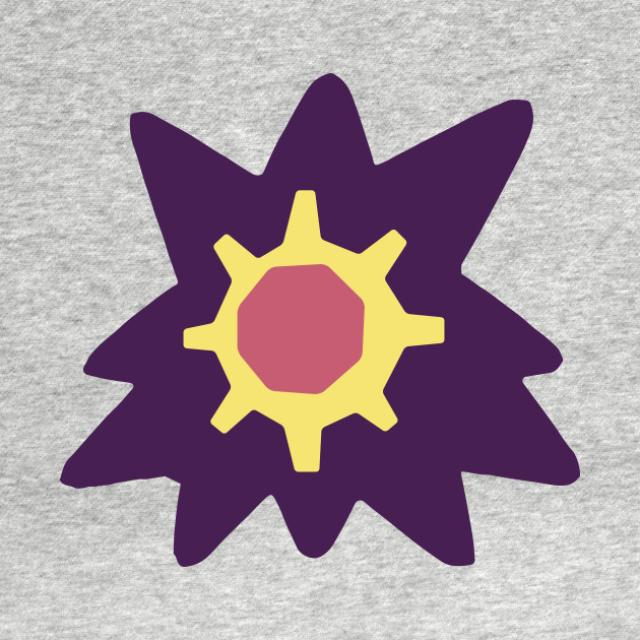Starmie: (89, 98, 566, 565)
